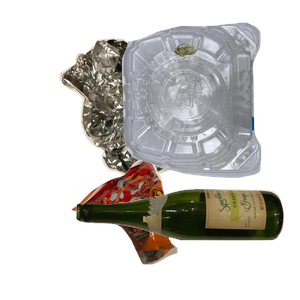glass: (74, 186, 300, 300)
metal: (57, 36, 241, 216)
plastic: (119, 20, 300, 190)
trash: (69, 153, 239, 300)
